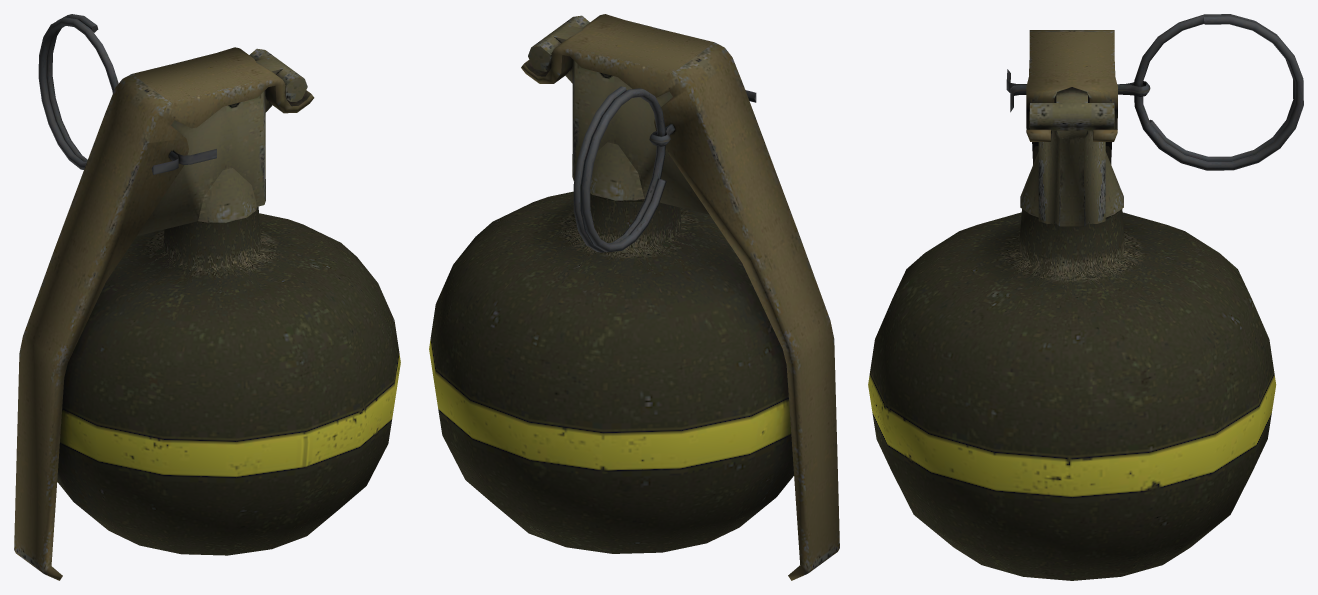
File: w_eq_fraggrenade_dropped.fbx
3 views of the same model, side by side, from view 1: azimuth 30°, elevation 25°; view 2: azimuth 150°, elevation 25°; view 3: azimuth 270°, elevation 25° (orthographic). The views are drawn at different scales.
Visible parts, largest first — view 1: w_eq_fraggrenade_dropped_w_eq_fraggrenade; view 2: w_eq_fraggrenade_dropped_w_eq_fraggrenade; view 3: w_eq_fraggrenade_dropped_w_eq_fraggrenade.
Boxes of the visible parts, <box> form: w_eq_fraggrenade_dropped_w_eq_fraggrenade: <box>14,14,400,580</box>; w_eq_fraggrenade_dropped_w_eq_fraggrenade: <box>429,14,839,580</box>; w_eq_fraggrenade_dropped_w_eq_fraggrenade: <box>868,14,1303,580</box>.
Bounding box in the file's own units: 3.62 × 4.73 × 3.65.
